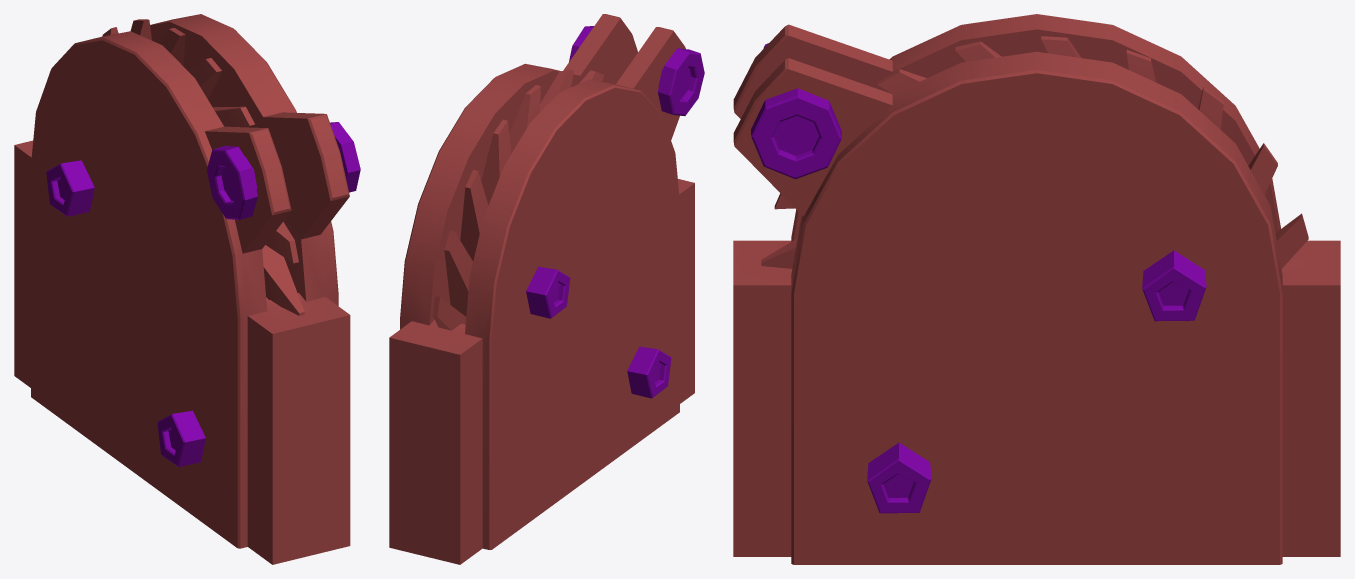
The model's file is geo_Scie_Circulaire.fbx.
3 views of the same model, side by side, from view 1: azimuth 30°, elevation 25°; view 2: azimuth 150°, elevation 25°; view 3: azimuth 270°, elevation 25° (orthographic). The views are drawn at different scales.
Visible parts, largest first — view 1: geo_base, geo_scie, geo_boulon6, geo_boulon5, geo_boulon2, geo_boulon4; view 2: geo_base, geo_scie, geo_boulon6, geo_boulon2, geo_boulon5; view 3: geo_base, geo_boulon4, geo_scie, geo_boulon1, geo_boulon3.
Boxes of the visible parts, x1,y1,x2,y2 form: geo_base: (14,14,350,564); geo_scie: (102,19,304,315); geo_boulon6: (207,145,257,219); geo_boulon5: (46,160,94,216); geo_boulon2: (157,410,205,466); geo_boulon4: (330,122,360,192); geo_base: (389,14,694,564); geo_scie: (432,69,604,330); geo_boulon6: (658,48,704,115); geo_boulon2: (627,346,671,398); geo_boulon5: (526,266,570,318); geo_base: (733,14,1340,564); geo_boulon4: (751,88,841,179); geo_scie: (761,36,1308,268); geo_boulon1: (867,442,931,513); geo_boulon3: (1142,250,1206,321).
Bounding box in the file's own units: 0.8487 × 2.26 × 2.47.
